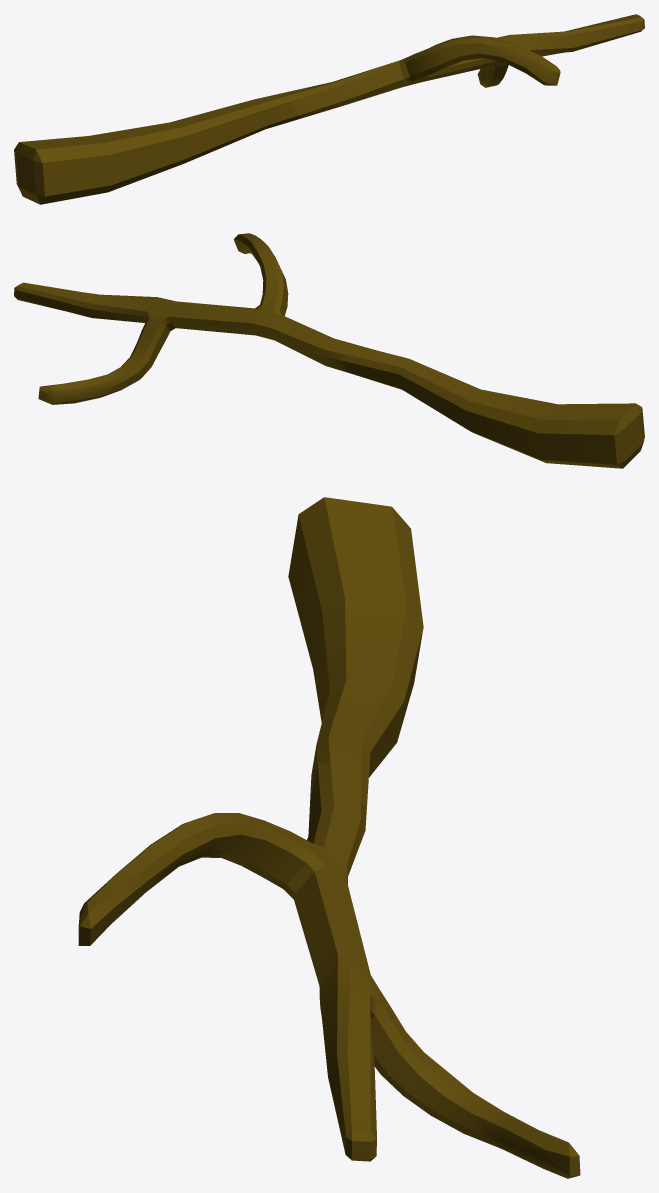
The model's file is RamaVersRota.fbx.
3 renders of one model, top to bottom at view 1: azimuth 30°, elevation 25°; view 2: azimuth 150°, elevation 25°; view 3: azimuth 270°, elevation 25°, orthographic. The views are drawn at different scales.
Parts seen in each view (by area): view 1: AbajoRoto, CentroRoto, ArribaRoto; view 2: AbajoRoto, ArribaRoto, CentroRoto; view 3: AbajoRoto, ArribaRoto, CentroRoto.
Boxes of the visible parts, x1,y1,x2,y2 form: AbajoRoto: (14,87,309,204); CentroRoto: (290,35,560,118); ArribaRoto: (468,14,644,87); AbajoRoto: (342,350,644,468); ArribaRoto: (14,282,221,404); CentroRoto: (204,233,376,372); AbajoRoto: (288,497,423,809); ArribaRoto: (313,909,580,1178); CentroRoto: (78,764,366,962).
Bounding box in the file's own units: 77.53 × 14.63 × 27.44.
